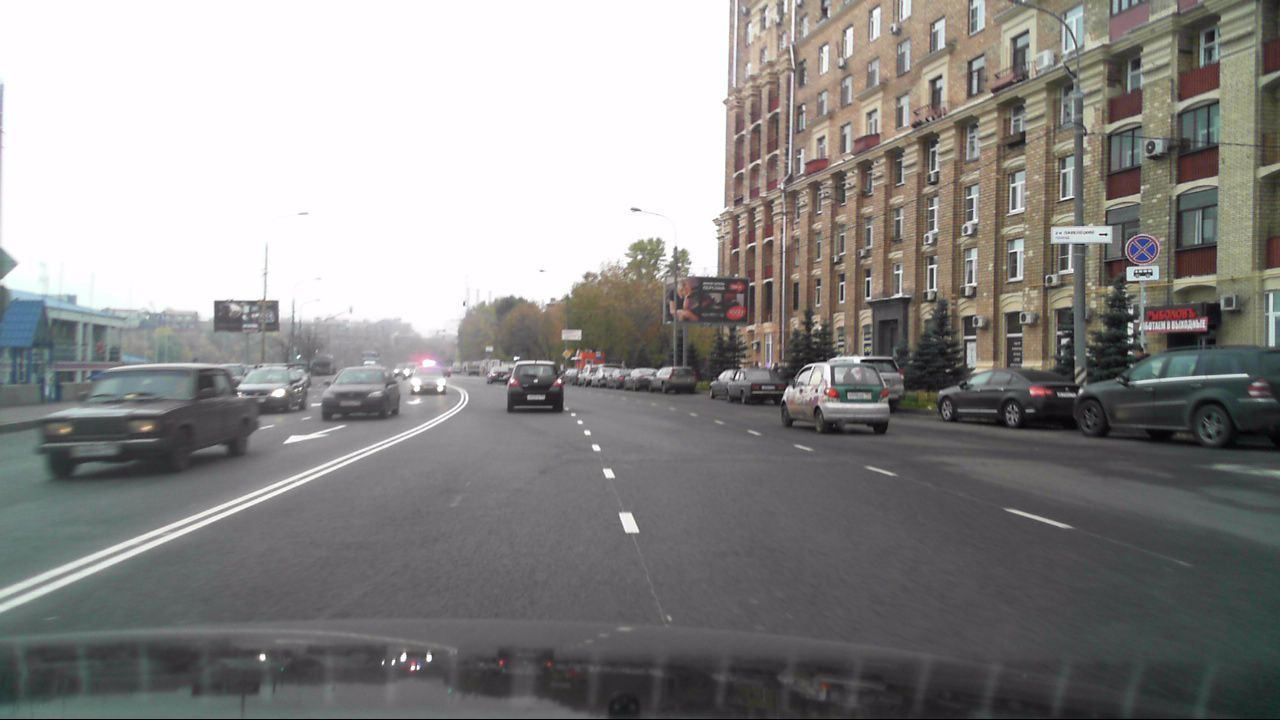No Parking: (1125, 233, 1160, 264)
